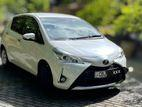car: (0, 13, 129, 93)
